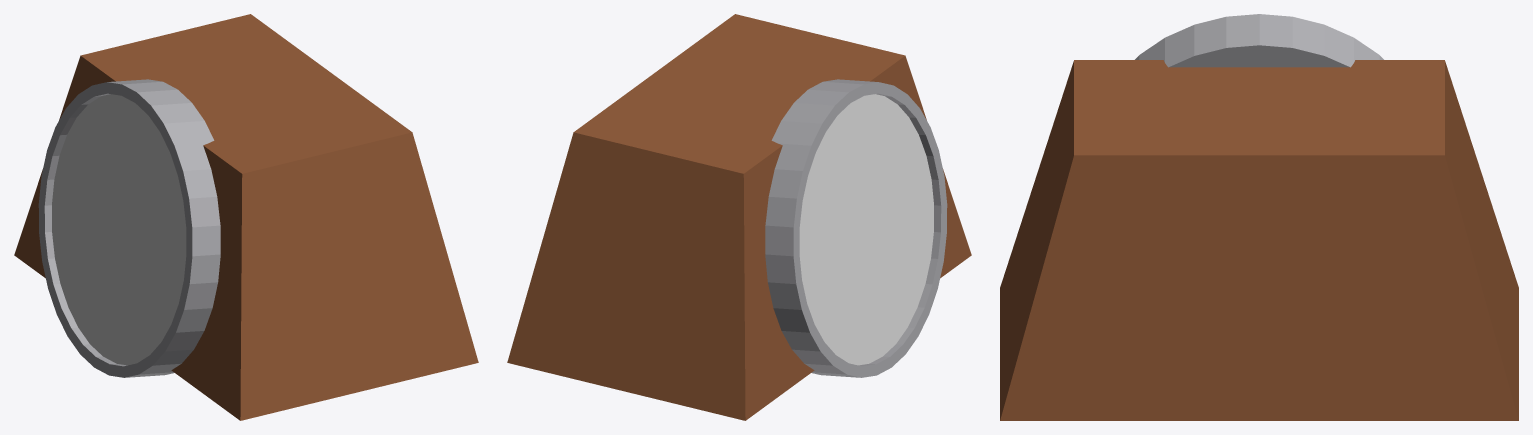
Rendered from WristWatch.fbx.
3 views of the same model, side by side, from view 1: azimuth 30°, elevation 25°; view 2: azimuth 150°, elevation 25°; view 3: azimuth 270°, elevation 25° (orthographic). The views are drawn at different scales.
Parts seen in each view (by area): view 1: Cube, Cylinder; view 2: Cube, Cylinder; view 3: Cube, Cylinder.
Boxes of the visible parts, bbox=[...] form: Cube: bbox=[14, 14, 478, 420]; Cylinder: bbox=[38, 79, 220, 377]; Cube: bbox=[507, 14, 971, 420]; Cylinder: bbox=[765, 79, 947, 377]; Cube: bbox=[1000, 60, 1518, 420]; Cylinder: bbox=[1135, 14, 1383, 67].
Size of the model in its own units: 293 by 280 by 423.
